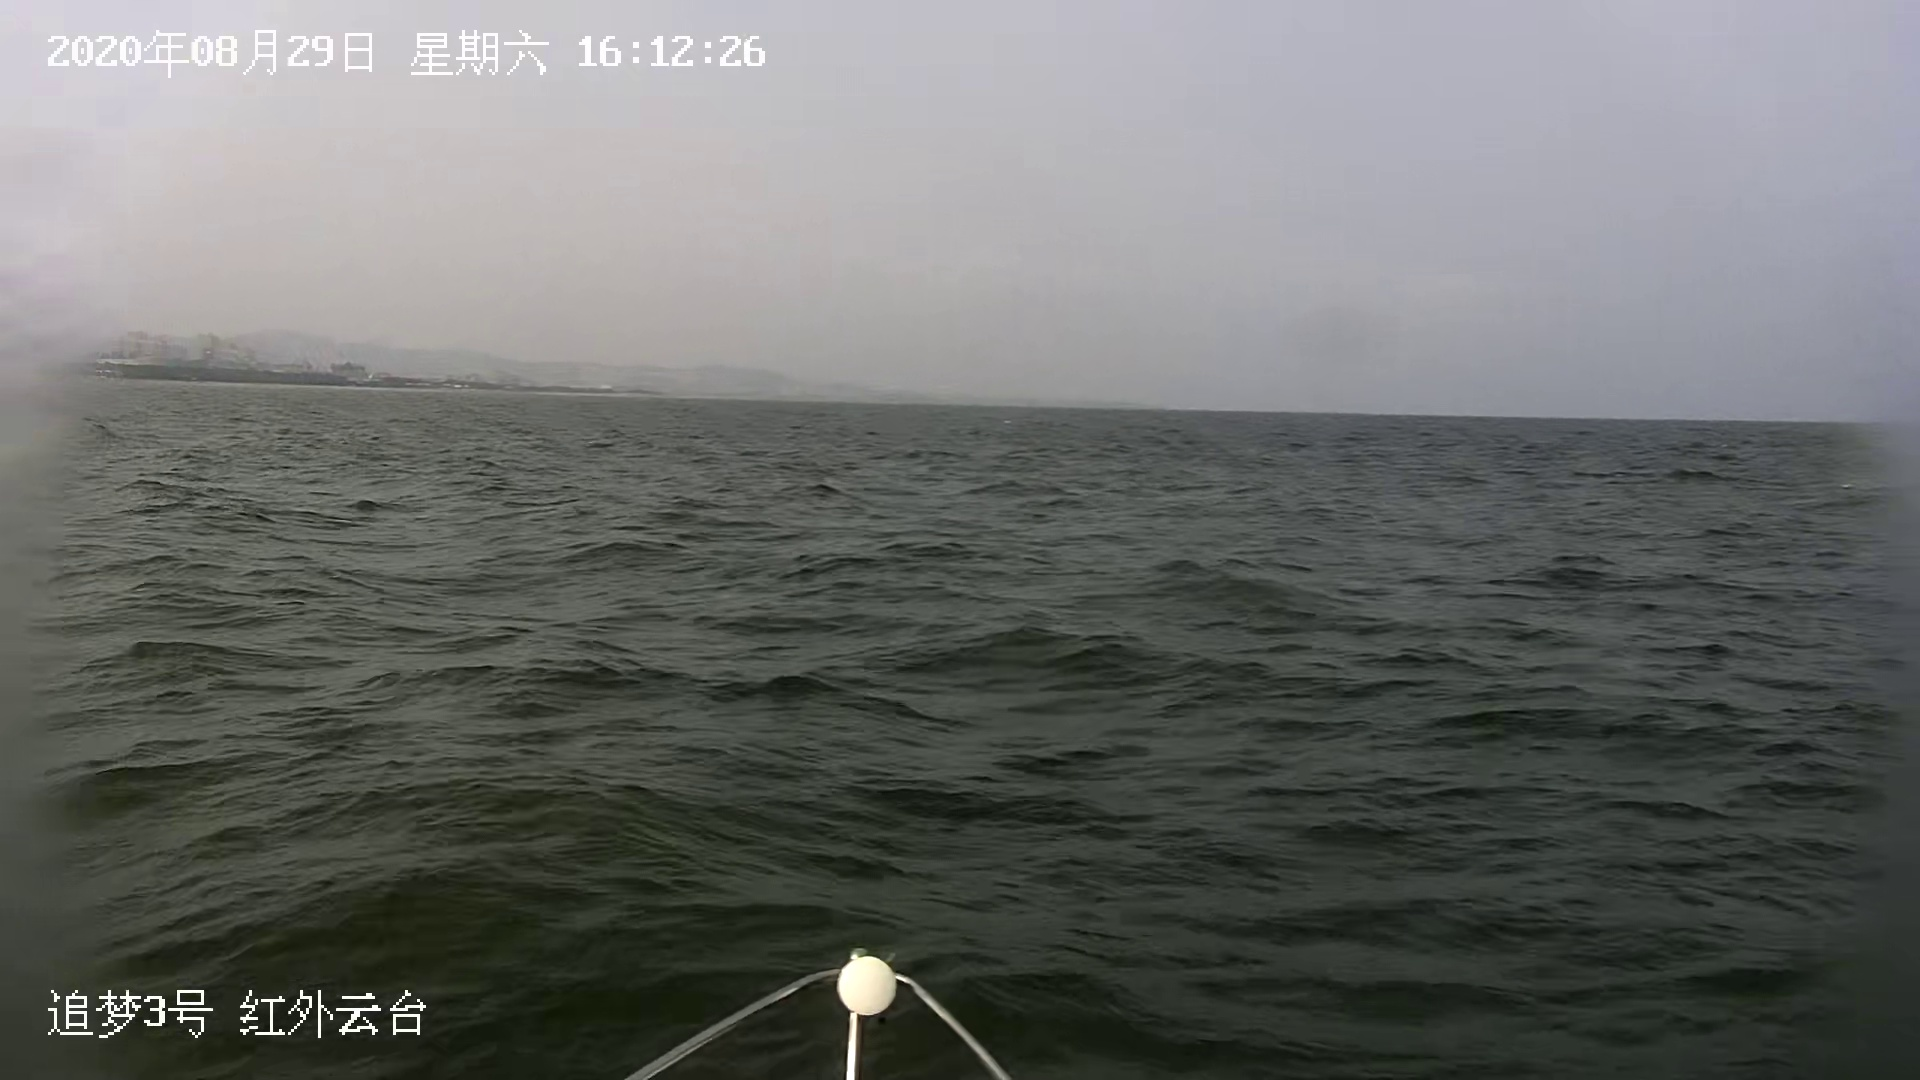coast: (0, 315, 961, 407)
this: (620, 947, 1018, 1079)
